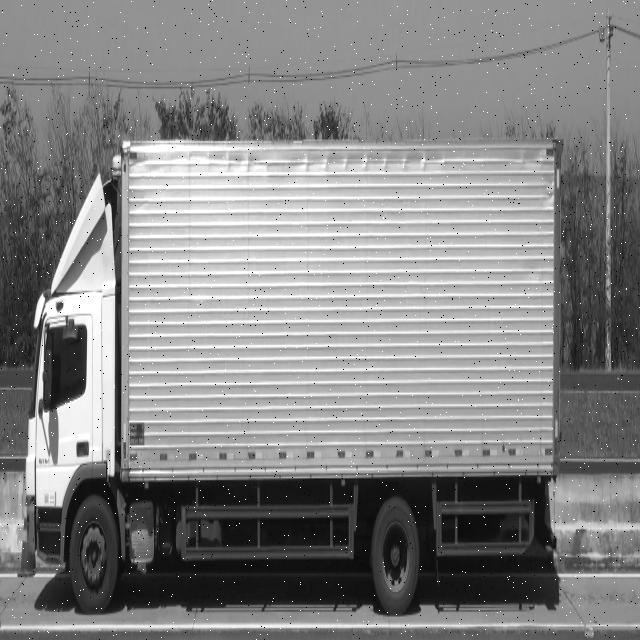-axle: (369, 494, 419, 620), (68, 497, 118, 616)
